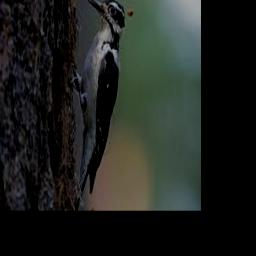Woodpecker: (71, 0, 133, 204)
